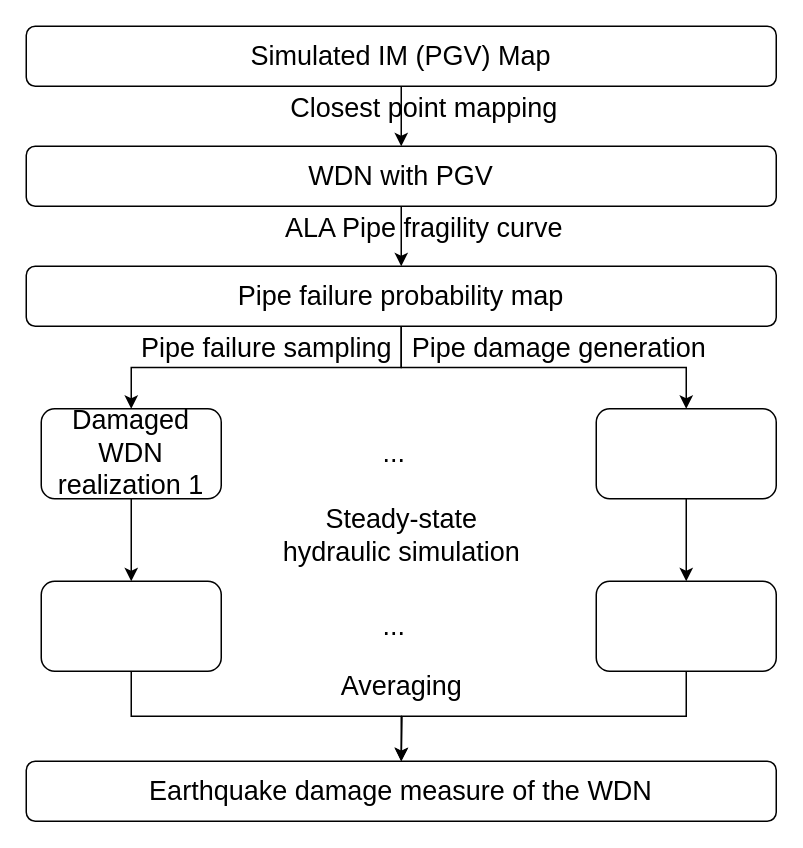
This 803x848 diagram has some shape labels left out. The centre of each missing label's shape, as x and y in pixels:
"Damaged WDN realization 500" goes at point 685,453.
"Hydraulic simulation result 1" goes at point 130,625.
"Hydraulic simulation result 500" goes at point 685,625.
